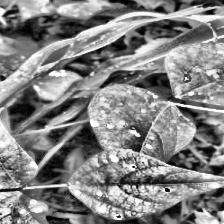Bean Rust: (71, 146, 224, 218), (86, 83, 198, 154), (158, 42, 224, 102), (0, 106, 36, 190), (0, 192, 54, 224), (32, 68, 80, 99)
